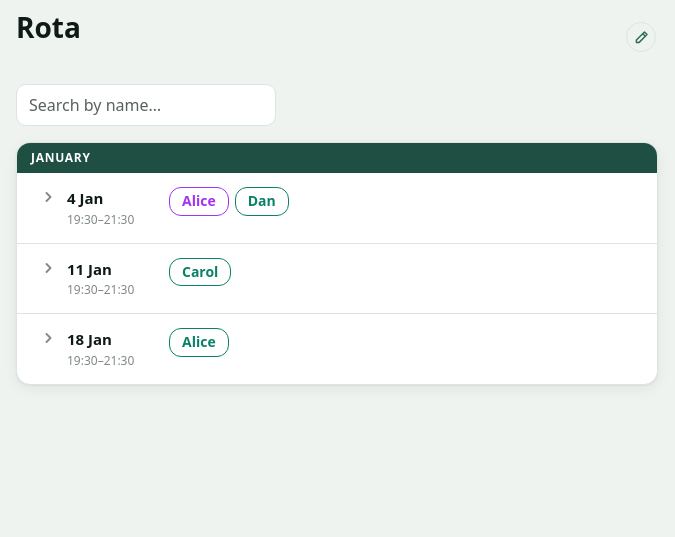
RotaViewer access levels › a Rota Editor can still change who is on an allocated shift
Click the button named "Edit rota" at (641, 37), box x1=626 y1=22 x2=656 y2=52
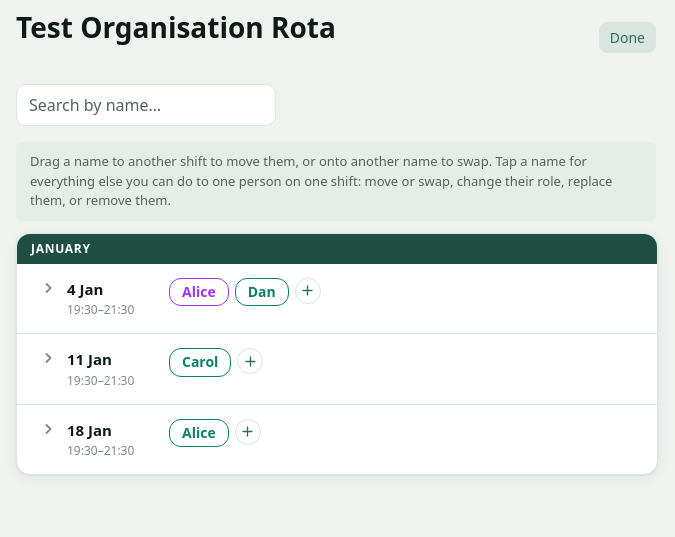
Click the button with aria-label "Alice, change this shift" at (199, 292), box x1=169 y1=278 x2=229 y2=306
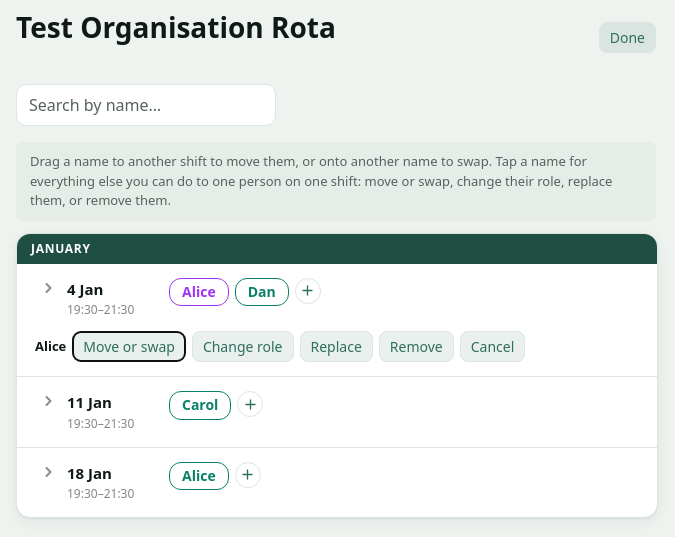
Expected: the button "Move or swap" is shown, x1=72 y1=331 x2=186 y2=362
